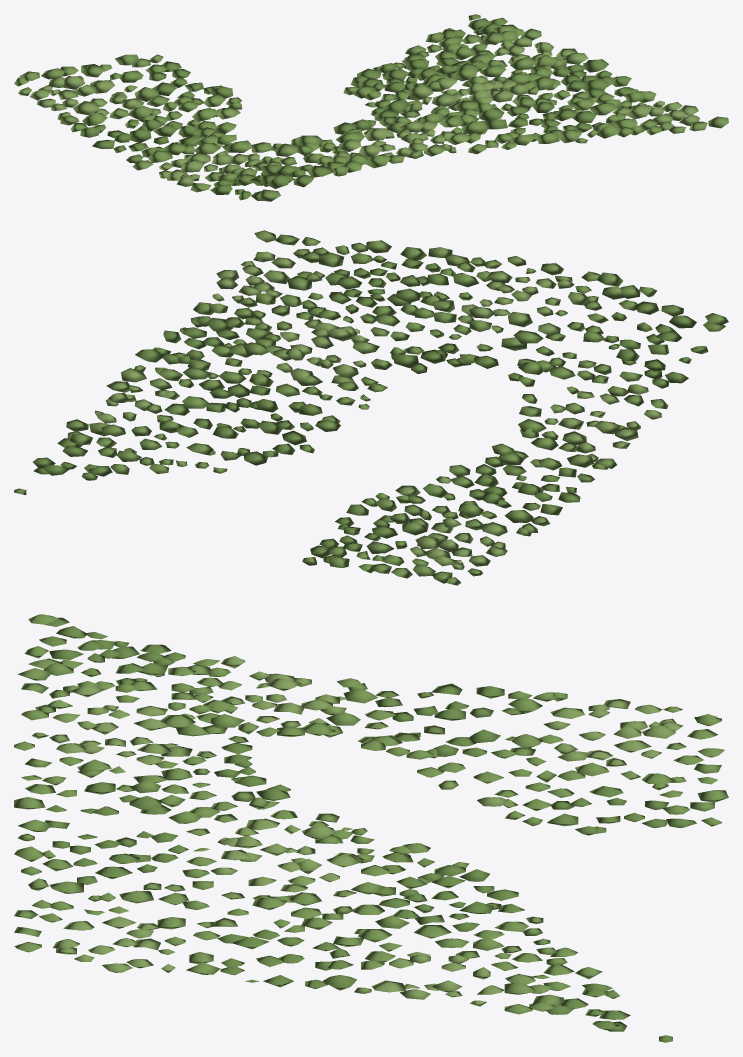
Rendered from canopy-1--2-2.glb.
The picture shows the model from 3 angles, top to bottom: view 1: azimuth 30°, elevation 25°; view 2: azimuth 150°, elevation 25°; view 3: azimuth 270°, elevation 25°; orthographic projection. The views are drawn at different scales.
Size of the model in its own units: 520 by 125 by 510.
1 material, 1 textured.
